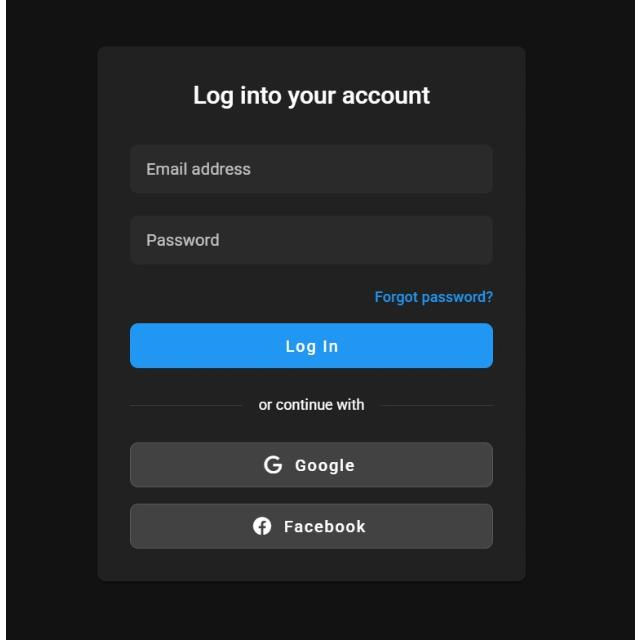QLabel: (186, 85, 430, 109), (372, 290, 494, 306), (256, 397, 366, 411), (281, 518, 367, 534), (282, 338, 340, 358), (290, 458, 356, 474)
VBtn: (126, 440, 494, 490), (128, 502, 494, 550), (128, 322, 494, 370)
VCard: (94, 43, 528, 585)
VDivider: (381, 404, 495, 408), (127, 403, 240, 407)
VIcon: (252, 516, 272, 536), (262, 456, 282, 474)
VTextField: (128, 145, 496, 197), (128, 216, 496, 268)
